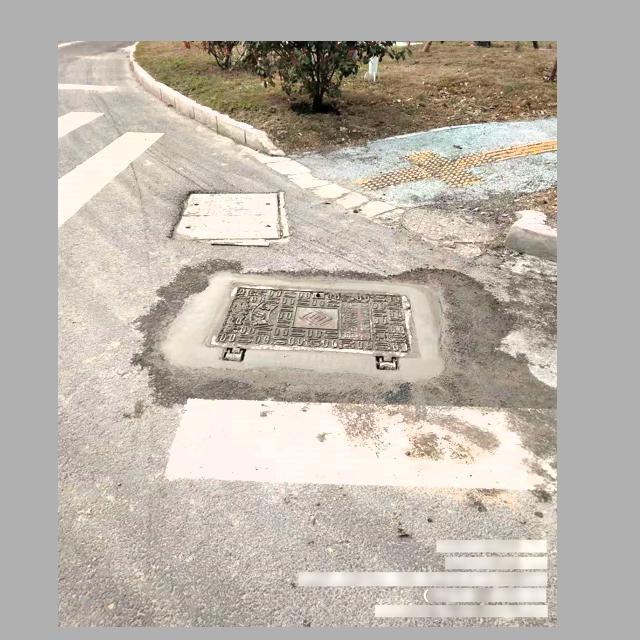good: (203, 280, 424, 371), (169, 189, 290, 247)
